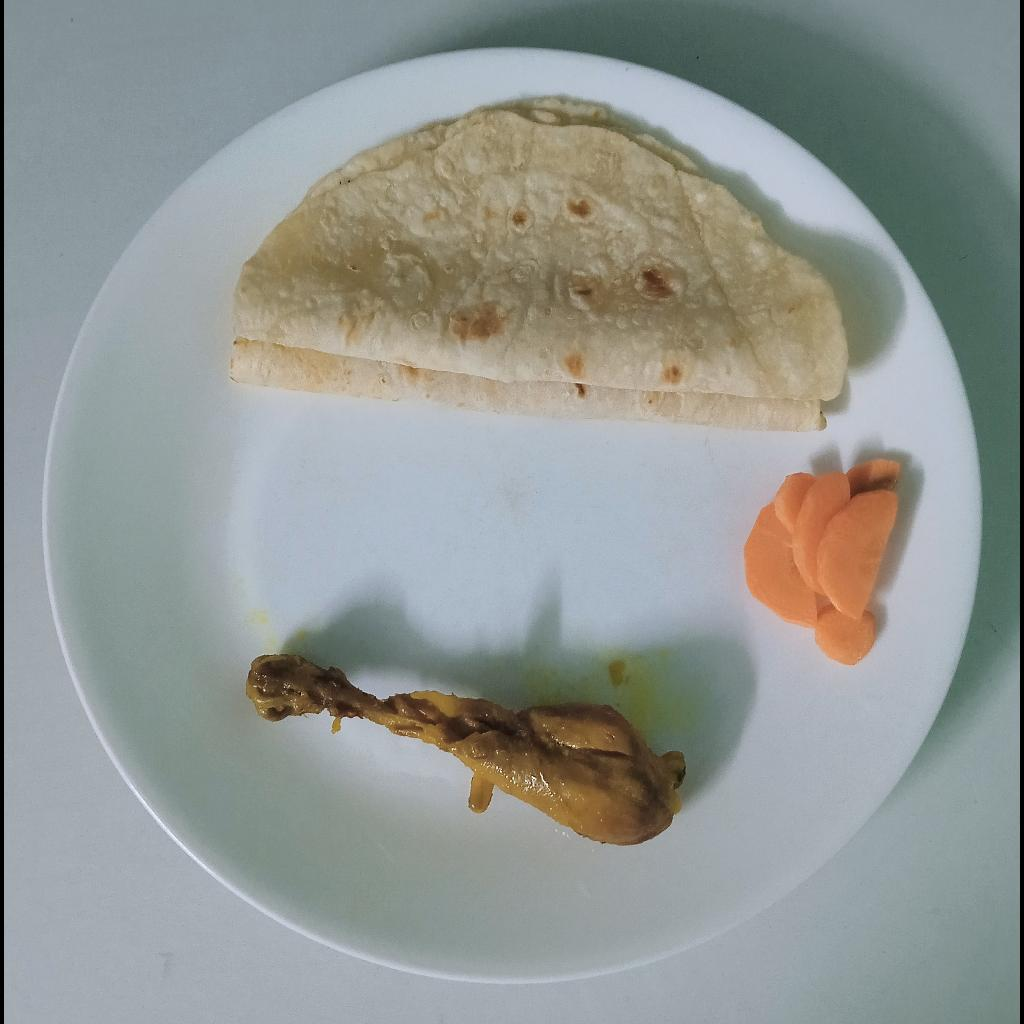carrot: (743, 456, 902, 668)
chicken: (248, 649, 684, 851)
ruti: (227, 98, 852, 429)
